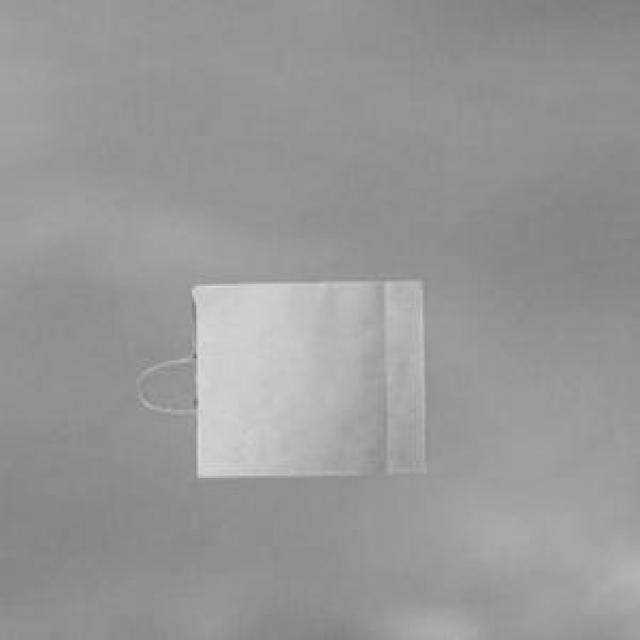paper: (179, 277, 419, 474)
